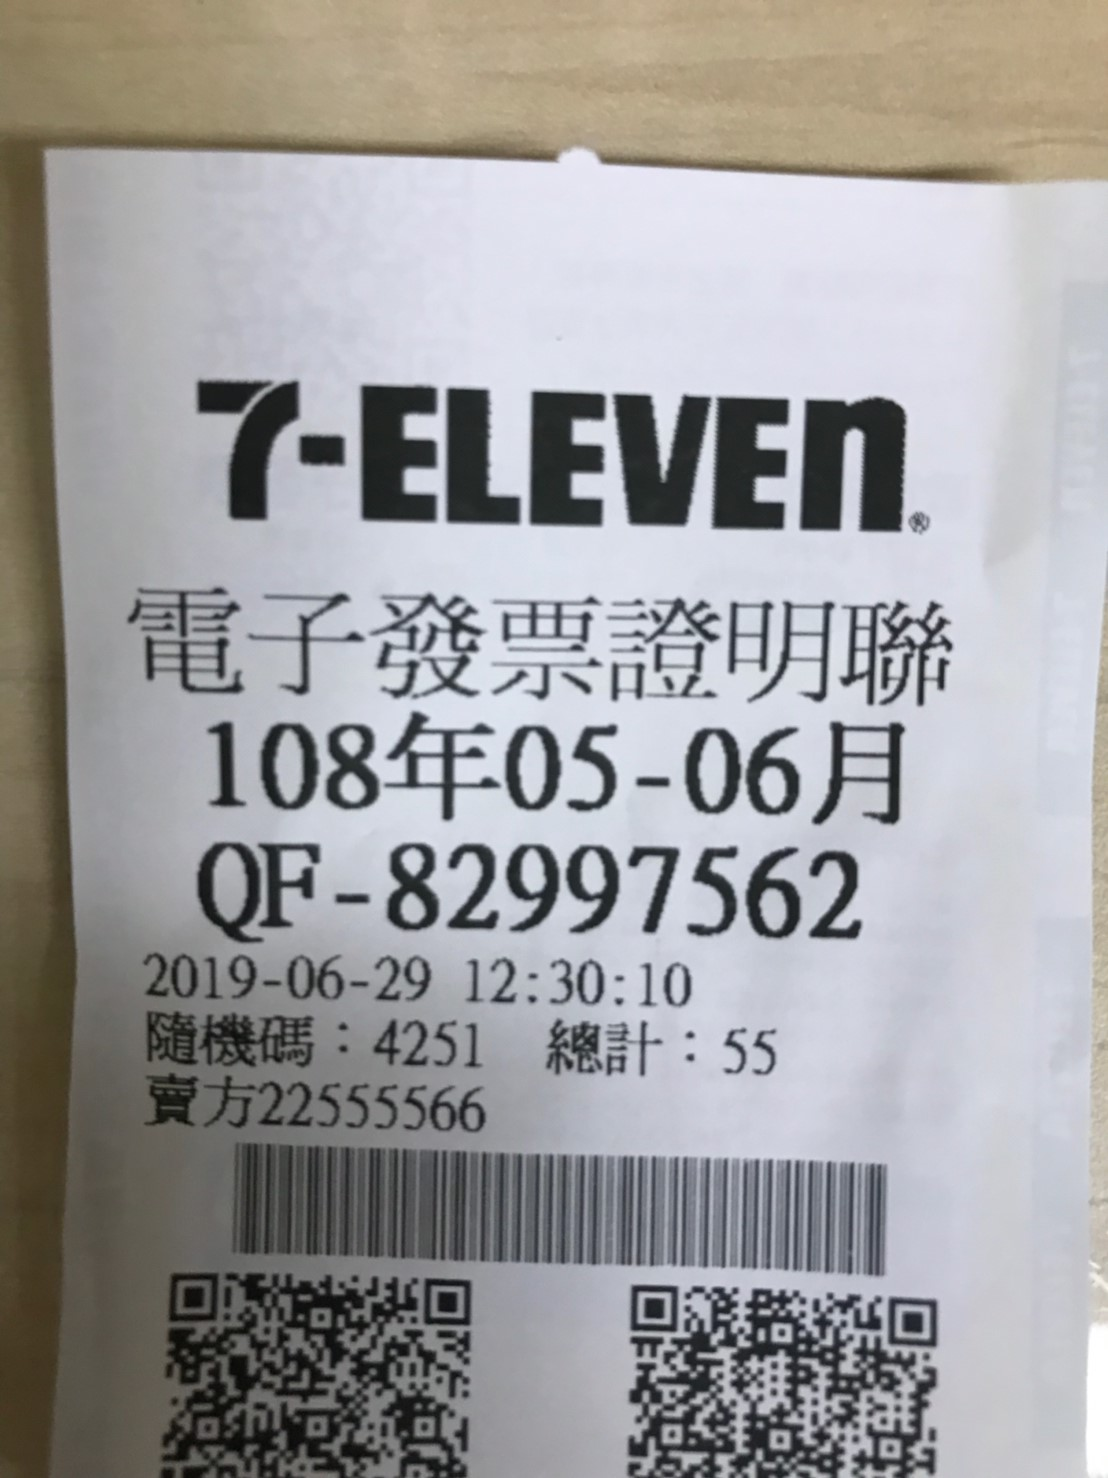Date_New: (201, 713, 905, 829)
Number_New: (382, 841, 864, 946)
